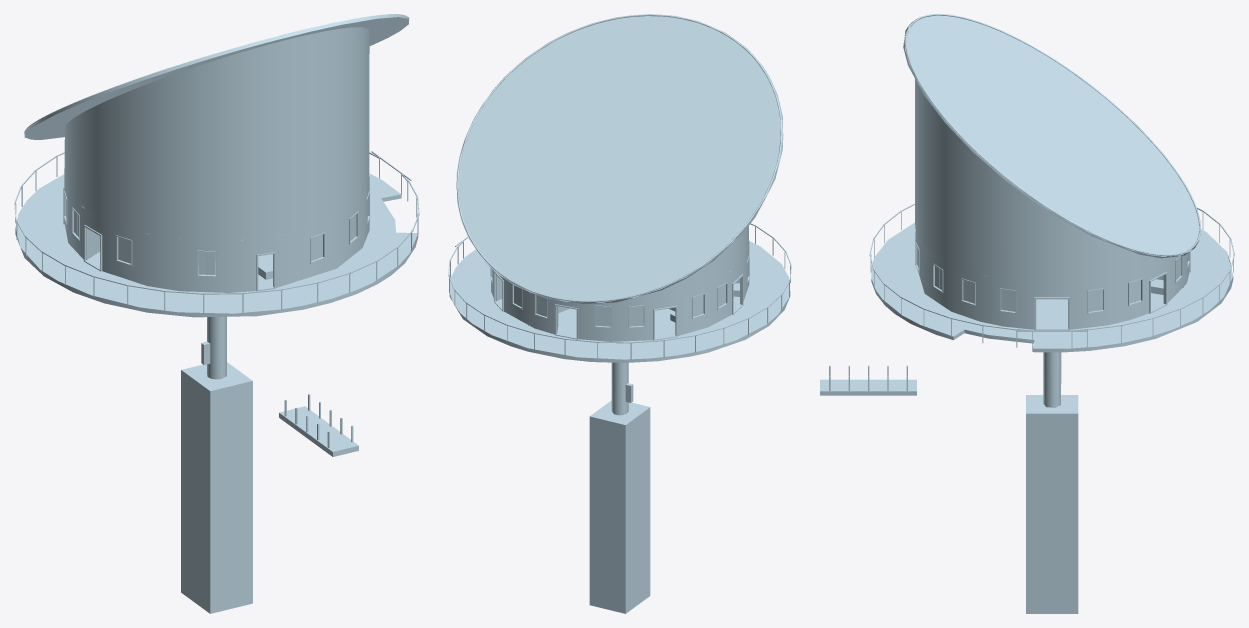
The model's file is tower_crown_3_lod2.glb.
The picture shows the model from 3 angles, left to right: view 1: azimuth 30°, elevation 25°; view 2: azimuth 150°, elevation 25°; view 3: azimuth 270°, elevation 25°; orthographic projection. The views are drawn at different scales.
Parts seen in each view (by area): view 1: Roof infill, Pod container, Slab 2, Facade 2, Solar disc, Bridge deck, Hatch column, Solar rim; view 2: Solar disc, Slab 2, Pod container, Facade 2, Solar rim, Roof infill, Hatch column; view 3: Solar disc, Roof infill, Slab 2, Pod container, Facade 2, Solar rim, Bridge deck, Hatch column.
Part boxes in pixels (box(x1,y1,x2,y2)): Roof infill: box(64, 27, 369, 240); Pod container: box(181, 362, 252, 613); Slab 2: box(15, 173, 418, 317); Facade 2: box(64, 175, 369, 292); Solar disc: box(24, 14, 409, 139); Bridge deck: box(279, 406, 358, 456); Hatch column: box(207, 316, 226, 379); Solar rim: box(25, 14, 406, 130); Solar disc: box(456, 14, 783, 304); Slab 2: box(449, 241, 790, 362); Pod container: box(589, 400, 650, 613); Facade 2: box(491, 241, 749, 341); Solar rim: box(456, 14, 782, 302); Roof infill: box(636, 226, 748, 297); Hatch column: box(611, 362, 628, 415); Solar disc: box(903, 14, 1200, 258); Roof infill: box(915, 79, 1164, 283); Slab 2: box(871, 222, 1233, 352); Pod container: box(1026, 395, 1078, 613); Facade 2: box(915, 232, 1189, 329); Solar rim: box(905, 14, 1200, 256); Bridge deck: box(820, 379, 916, 395); Hatch column: box(1043, 352, 1061, 407).
Size of the model in its own units: 20.1 by 34.3 by 22.87.
